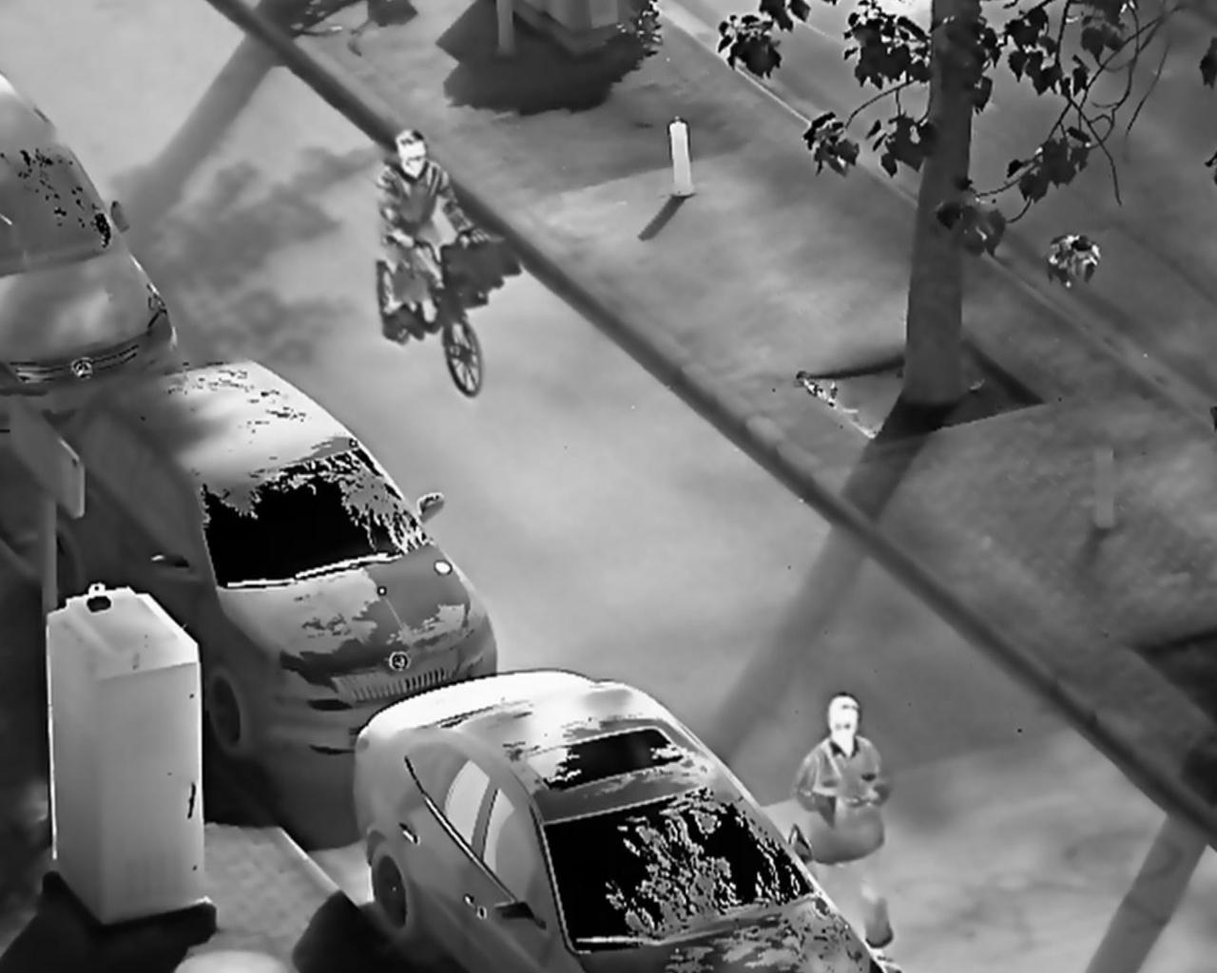person: (791, 692, 907, 973), (373, 124, 486, 341)
